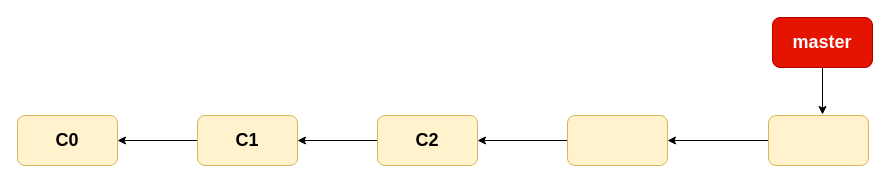
Some shapes in this 890 by 183 pixel diagram are drawn without their labels. Here are the shapes that lost their labels. From the top down, the box of each, then its label:
(566, 114, 668, 166): C4
(768, 114, 868, 166): C6
